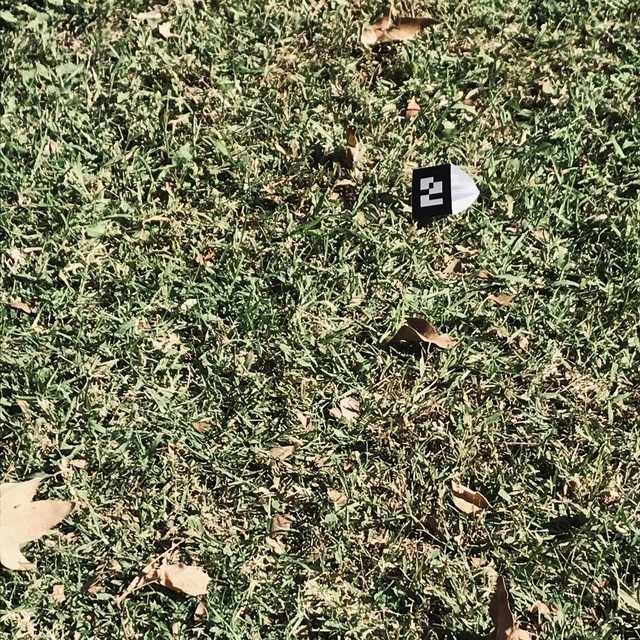ARTag: (411, 163, 480, 223)
